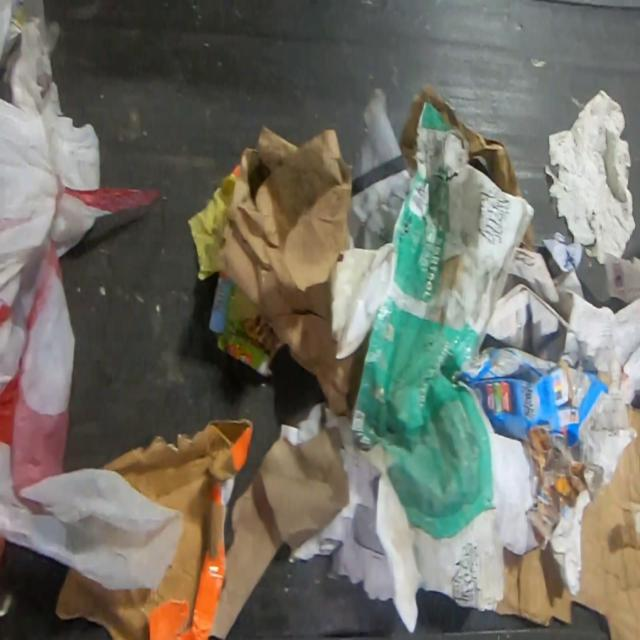cardboard: (53, 418, 350, 640), (187, 123, 371, 422), (457, 344, 630, 545), (498, 406, 640, 640), (398, 84, 524, 198), (209, 270, 281, 382), (519, 223, 537, 254)
soft_plastic: (0, 0, 186, 593)
